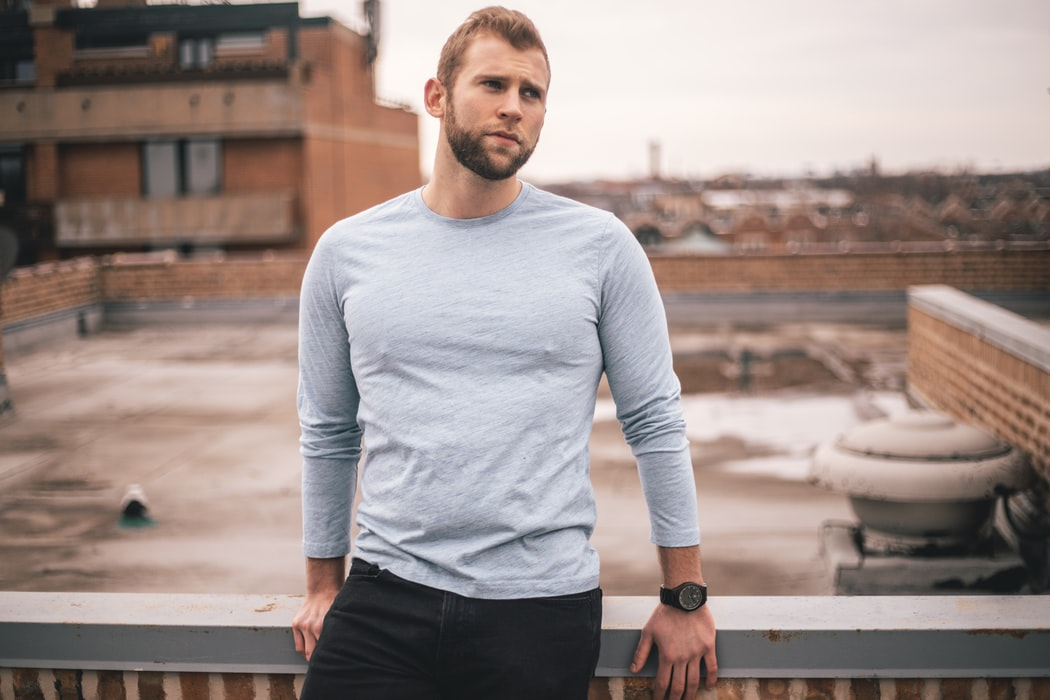beard: (439, 121, 545, 192)
